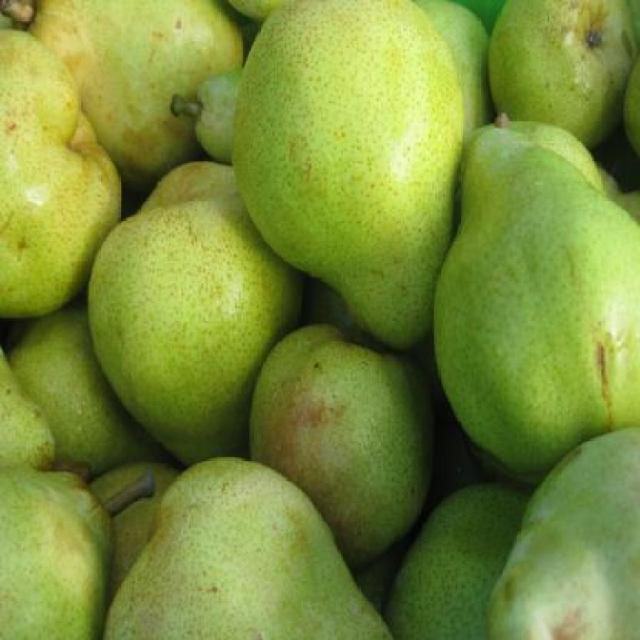Pear: (0, 0, 638, 638), (431, 114, 638, 478)
